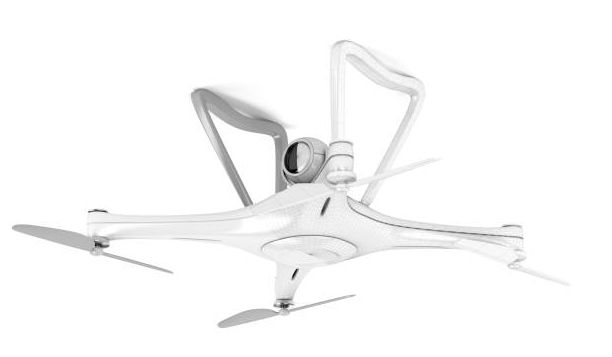Drone: (13, 36, 576, 330)
